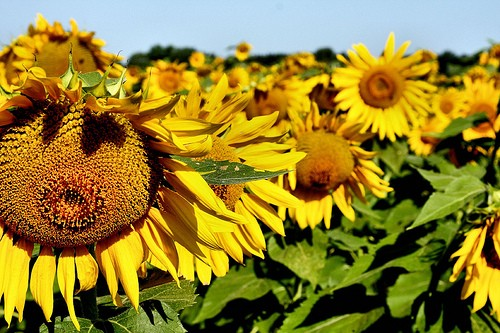flower: (0, 65, 305, 319), (277, 98, 391, 230), (328, 29, 439, 143)
